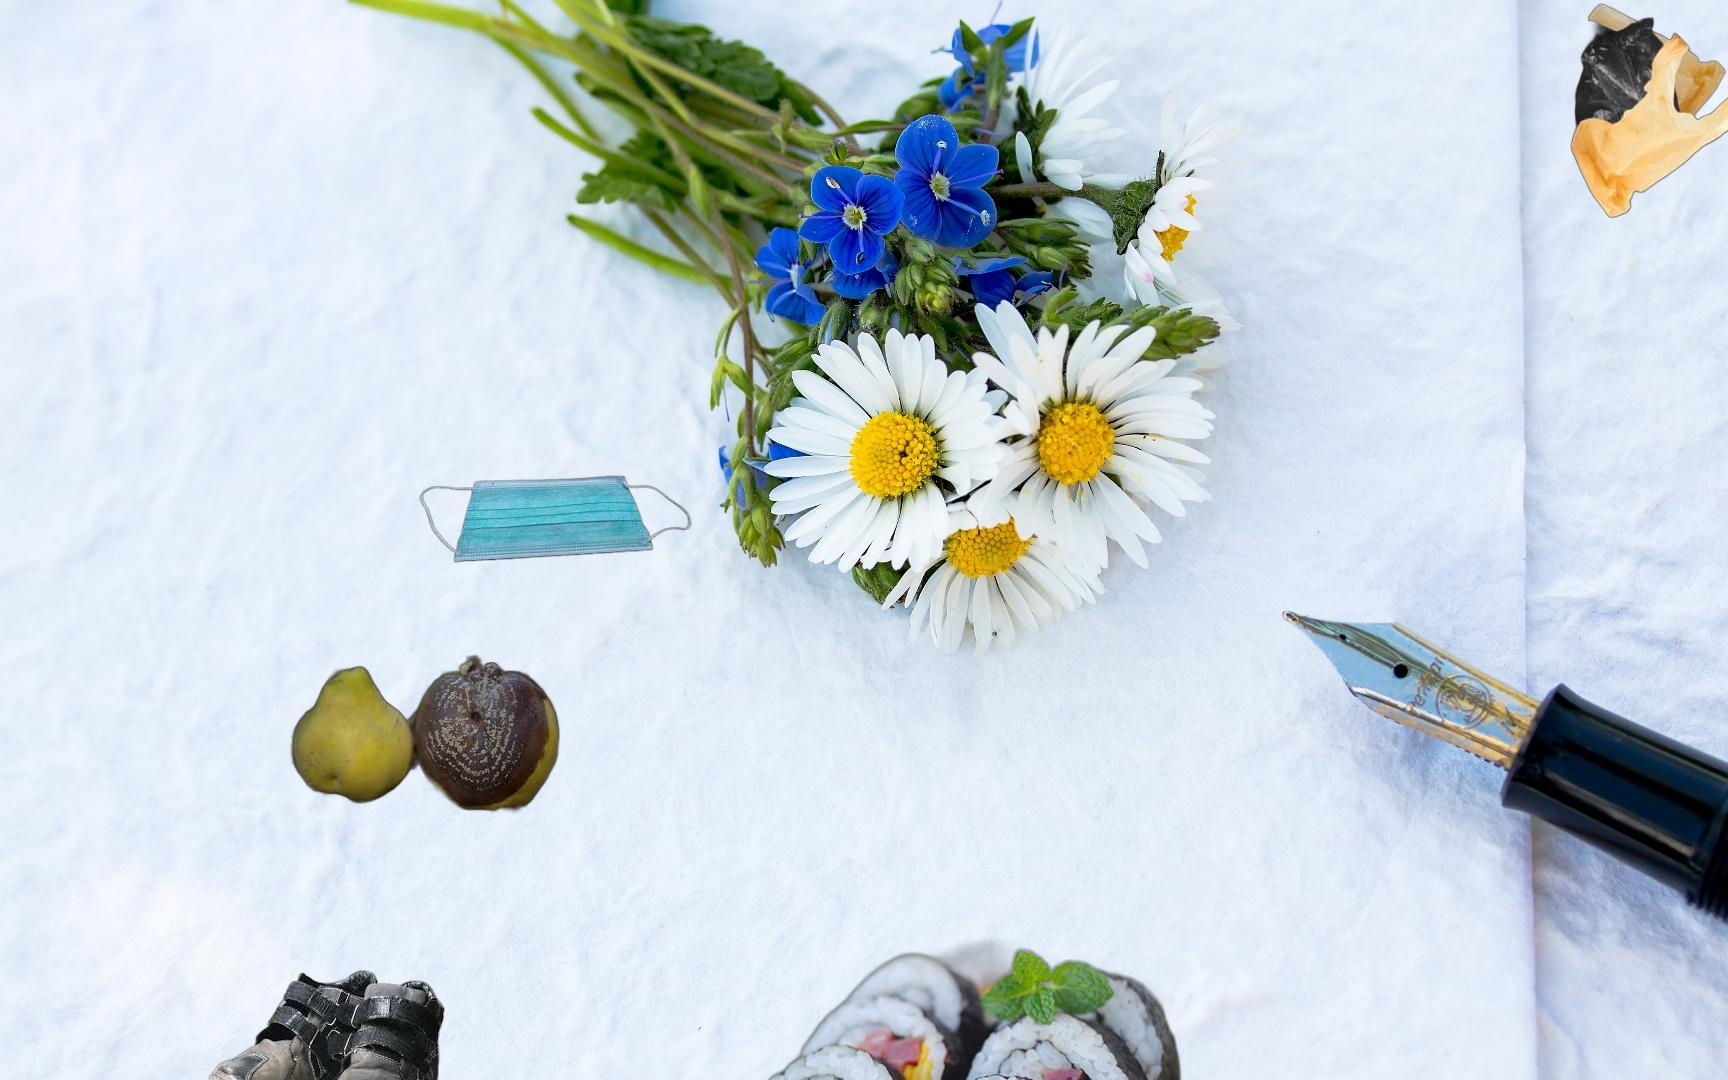biological: (735, 934, 1201, 1080), (289, 631, 562, 814)
plastic-bag: (1568, 1, 1728, 221)
shoes: (207, 968, 447, 1080)
trash: (417, 473, 694, 565)
